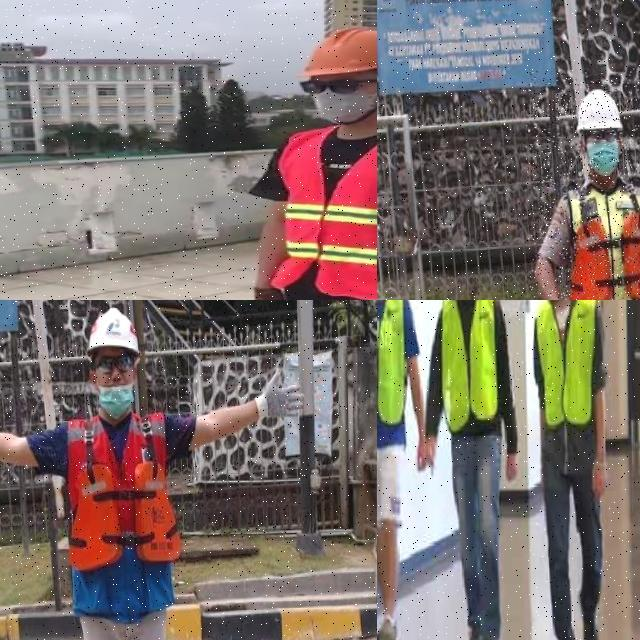boots: (477, 624, 511, 640)
helmet: (297, 23, 377, 79), (86, 307, 140, 360), (574, 86, 623, 134)
vest: (65, 412, 181, 614), (270, 122, 377, 300), (434, 300, 506, 432), (535, 300, 604, 431), (567, 177, 640, 300), (377, 300, 414, 441)
